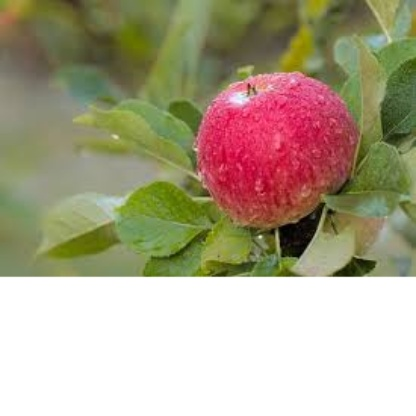tao: (185, 61, 365, 231)
